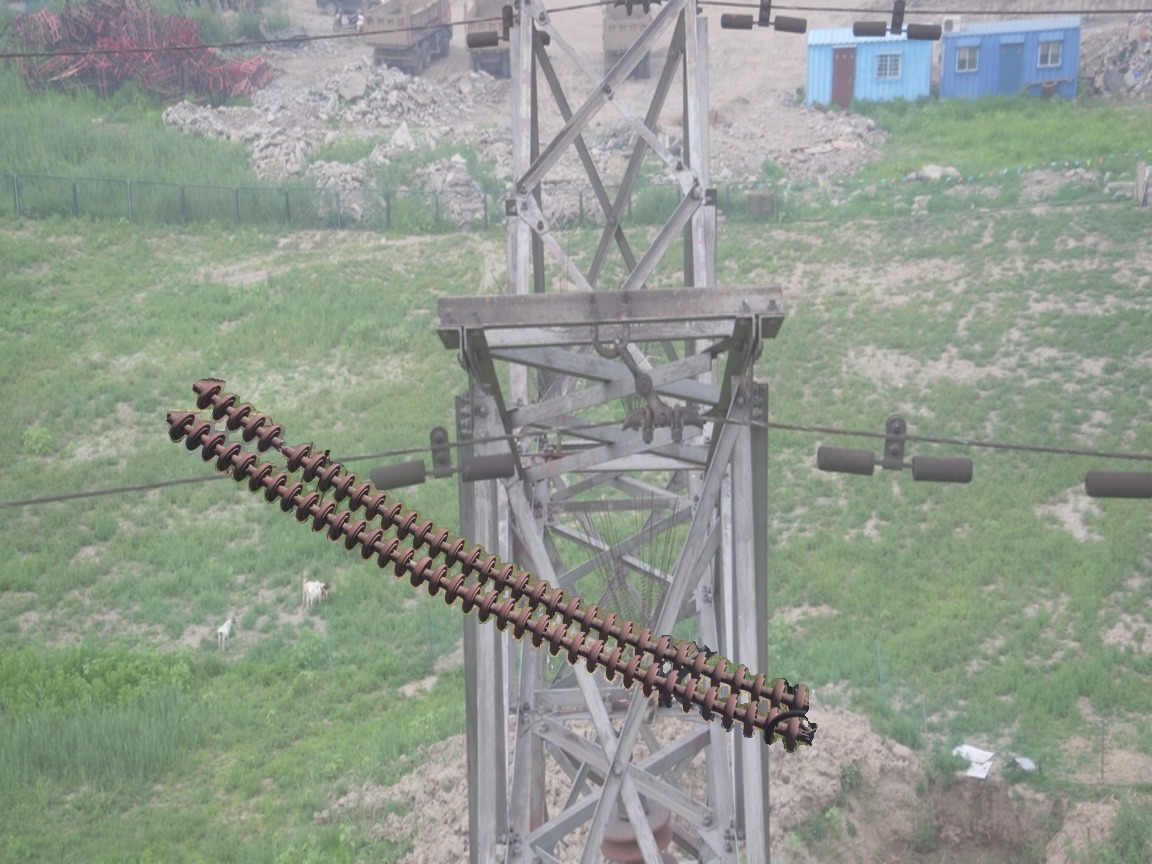defect: (251, 422, 314, 472)
